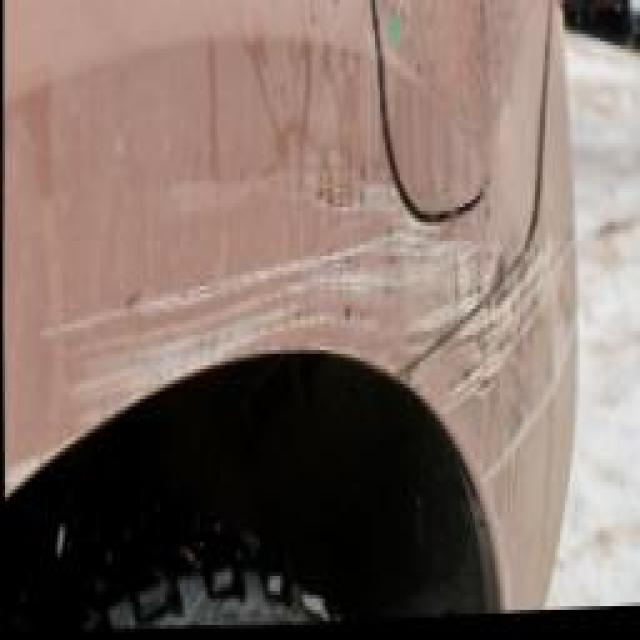Bumper: (448, 207, 585, 495)
Fender: (5, 151, 479, 424)
